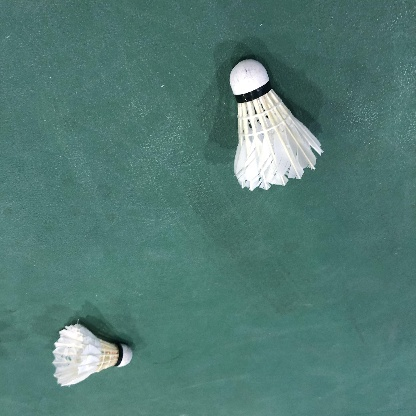ball_single: (230, 59, 324, 191), (52, 324, 133, 386)
